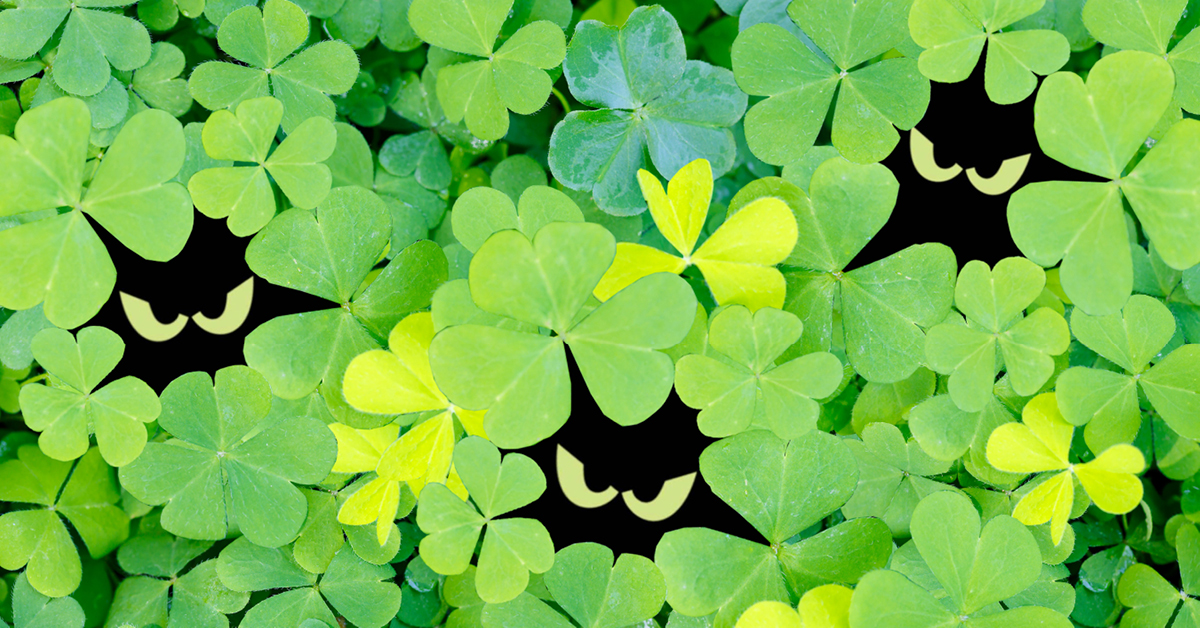oxalis: (9, 19, 1199, 628)
